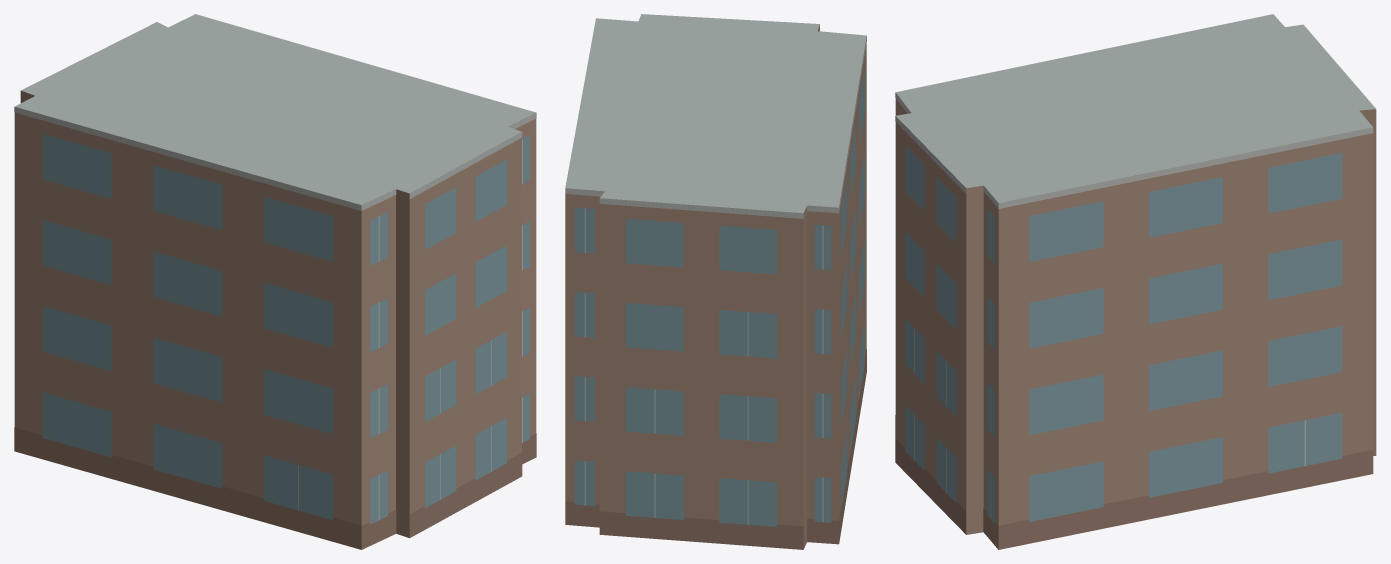
File: survey-upis-32652132.glb
3 views of the same model, side by side, from view 1: azimuth 30°, elevation 25°; view 2: azimuth 150°, elevation 25°; view 3: azimuth 270°, elevation 25° (orthographic). The views are drawn at different scales.
Visible parts, largest first — view 1: survey-upis-32652132.tmp; view 2: survey-upis-32652132.tmp; view 3: survey-upis-32652132.tmp.
Part boxes in pixels (bbox=[...]): survey-upis-32652132.tmp: bbox=[14, 14, 536, 549]; survey-upis-32652132.tmp: bbox=[565, 14, 866, 549]; survey-upis-32652132.tmp: bbox=[895, 14, 1376, 549].
Bounding box in the file's own units: 17.04 × 14.55 × 18.31.
